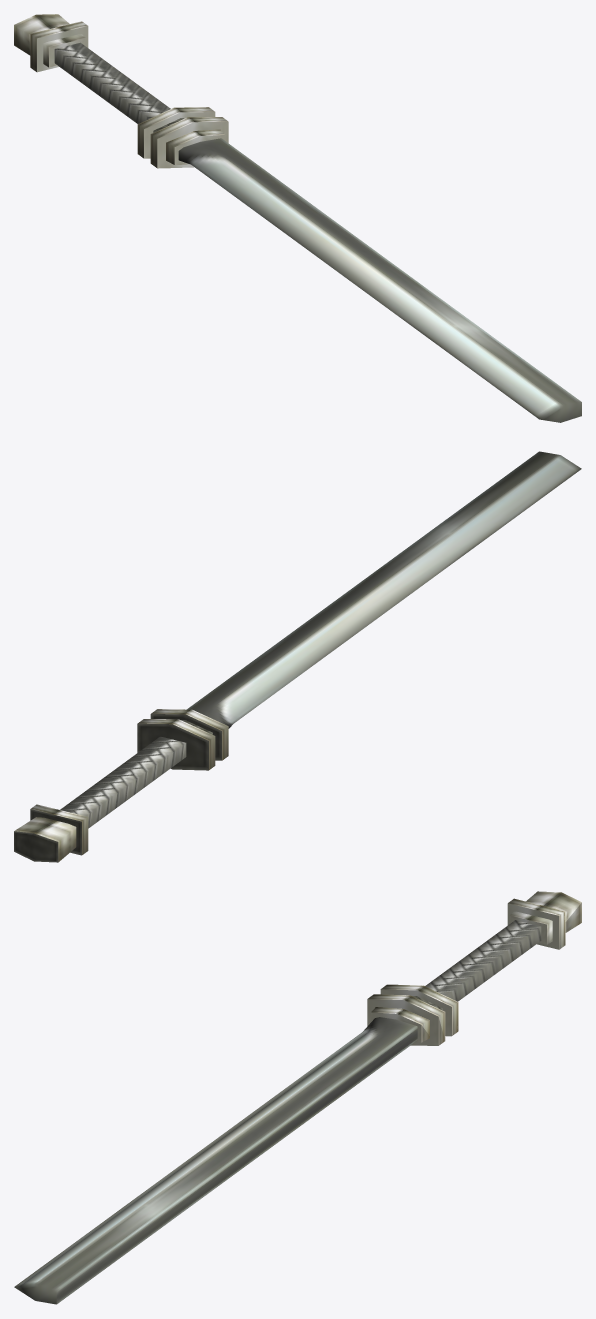
3 renders of one model, top to bottom at view 1: azimuth 30°, elevation 25°; view 2: azimuth 150°, elevation 25°; view 3: azimuth 330°, elevation 25°, orthographic.
Visible parts, largest first — view 1: W902R; view 2: W902R; view 3: W902R.
Boxes of the visible parts, left/top/right/bottom form: W902R: left=14, top=14, right=581, bottom=422; W902R: left=14, top=451, right=581, bottom=862; W902R: left=14, top=891, right=581, bottom=1304.
Bounding box in the file's own units: 2.27 × 1.37 × 28.9.
Materials: 1 (1 with a texture image).
